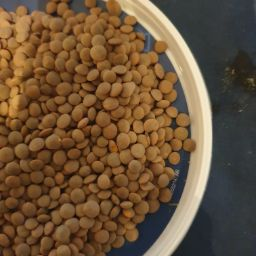Black Lentil(masoor daal): (87, 3, 201, 217), (60, 6, 149, 256), (2, 5, 67, 253)
